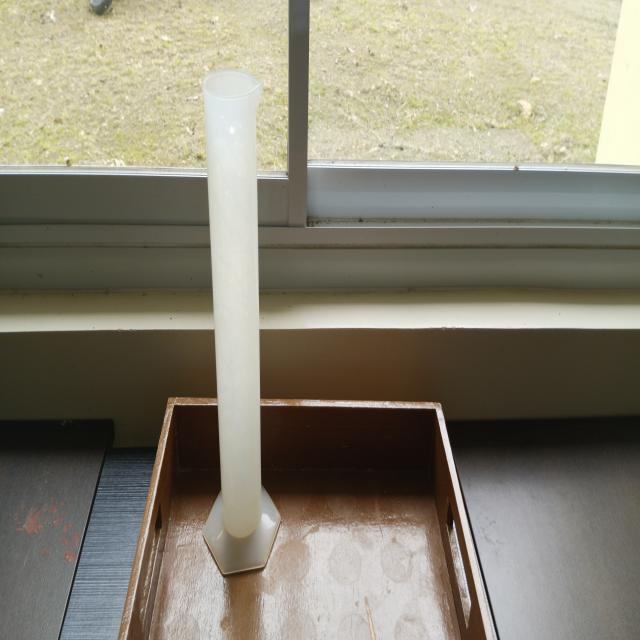graduated_cylinder: (192, 58, 287, 588)
